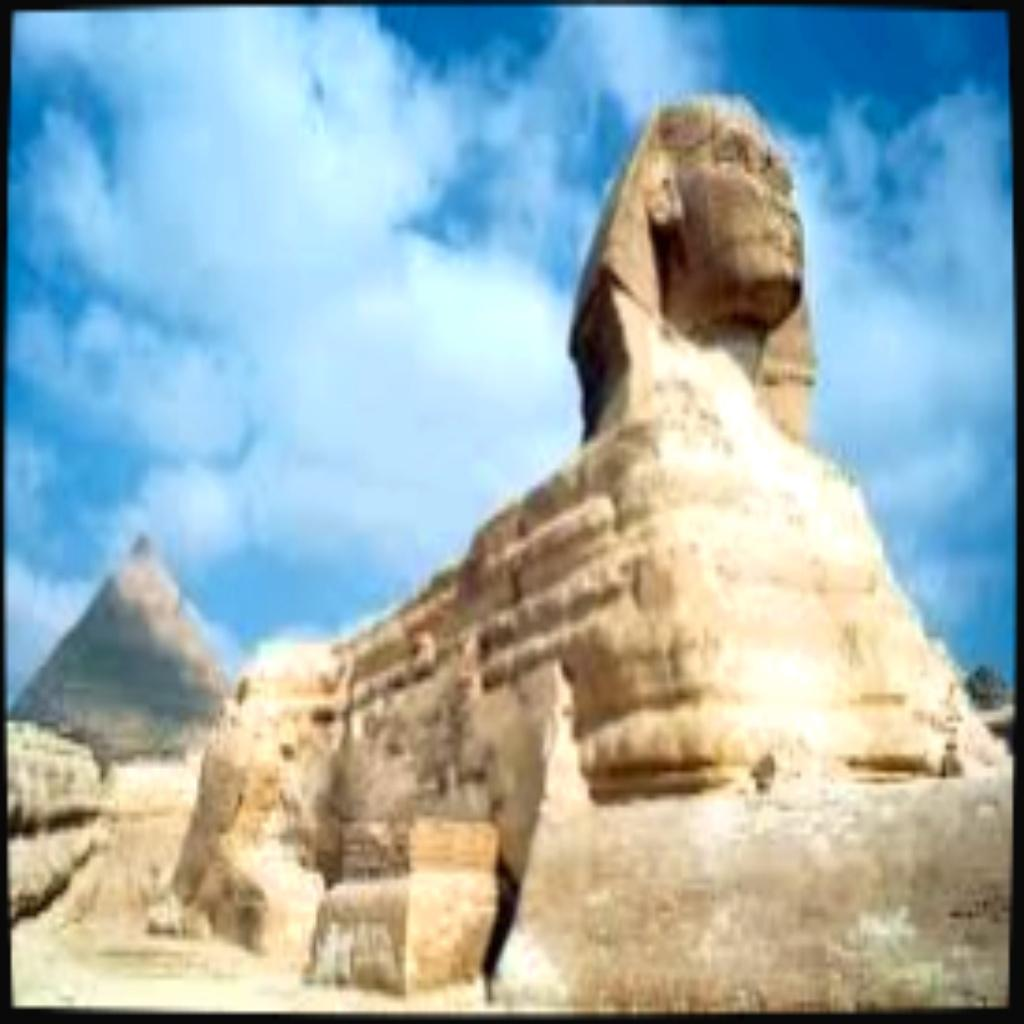Sphinx: (134, 84, 1009, 996)
